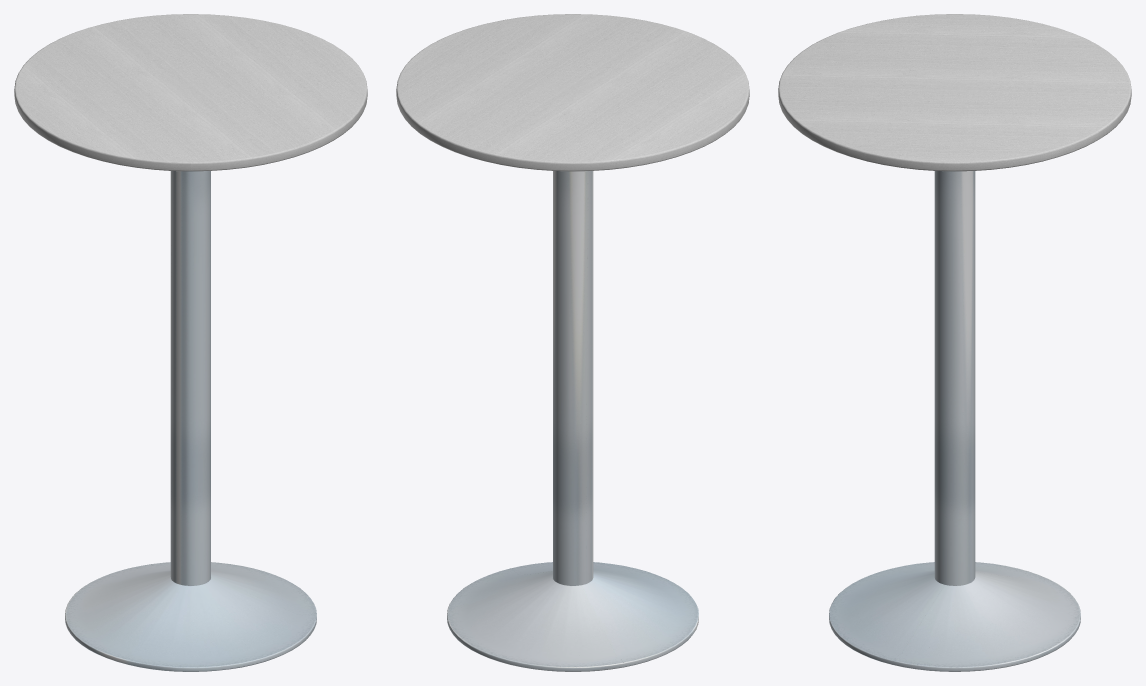
The model's file is fermo_110_alufarben_70_white_laquered_metal.glb.
The picture shows the model from 3 angles, left to right: view 1: azimuth 30°, elevation 25°; view 2: azimuth 150°, elevation 25°; view 3: azimuth 270°, elevation 25°; orthographic projection.
Parts seen in each view (by area): view 1: fermo_110_alufarben_o70-white; view 2: fermo_110_alufarben_o70-white; view 3: fermo_110_alufarben_o70-white.
Boxes of the visible parts, x1,y1,x2,y2 form: fermo_110_alufarben_o70-white: (14, 14, 367, 671); fermo_110_alufarben_o70-white: (396, 14, 749, 671); fermo_110_alufarben_o70-white: (778, 14, 1131, 671).
Size of the model in its own units: 0.7003 by 1.16 by 0.7003.
Materials: 1 (1 with a texture image).
